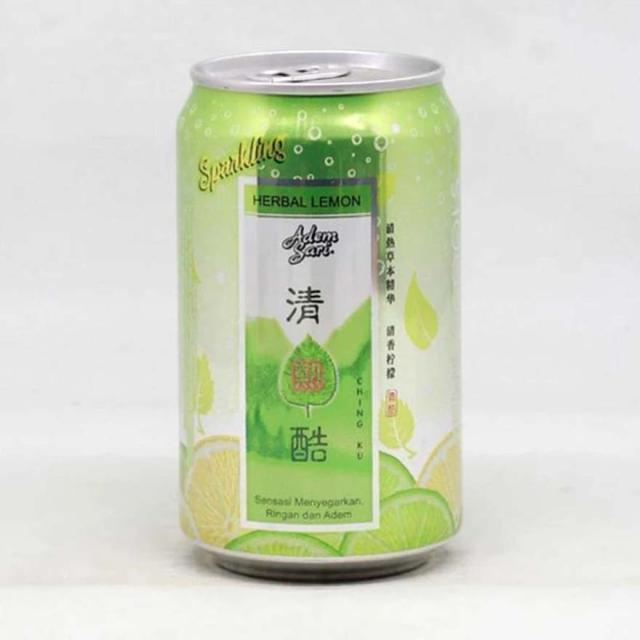ademsarikaleng: (174, 47, 464, 582)
